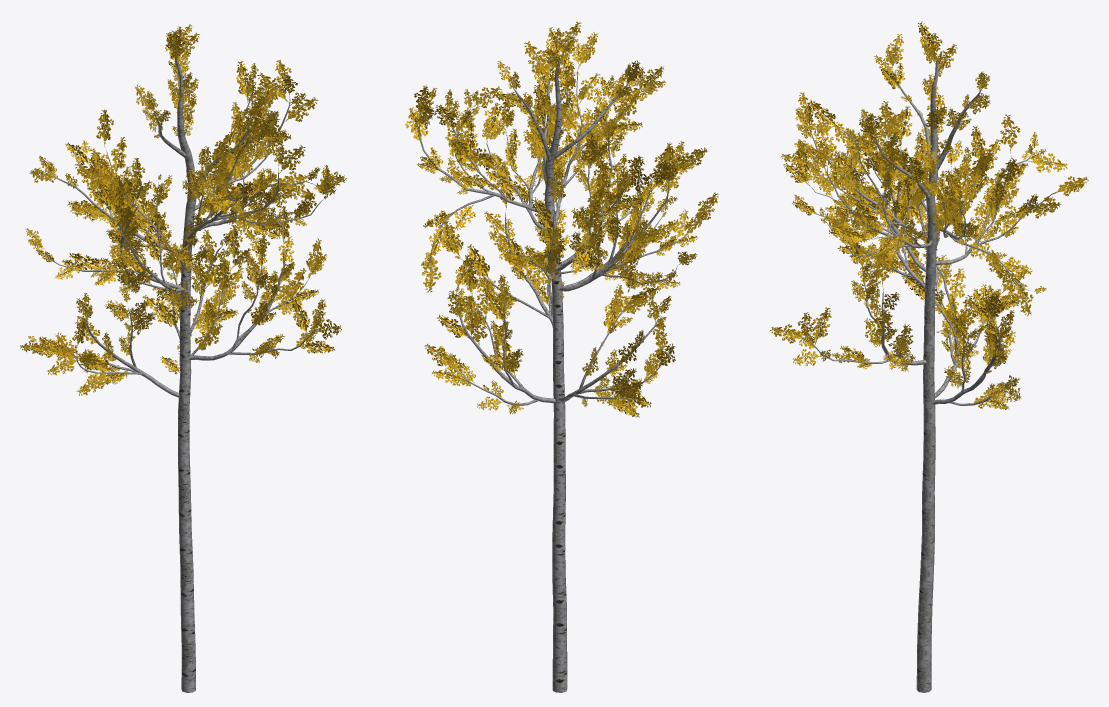
The model's file is aspen.glb.
The picture shows the model from 3 angles, left to right: view 1: azimuth 30°, elevation 25°; view 2: azimuth 150°, elevation 25°; view 3: azimuth 270°, elevation 25°; orthographic projection.
Parts seen in each view (by area): view 1: Tree; view 2: Tree; view 3: Tree.
Boxes of the visible parts, x1,y1,x2,y2 form: Tree: (20,24,347,692); Tree: (405,21,718,692); Tree: (769,21,1088,692).
Bounding box in the file's own units: 33.48 × 70.9 × 31.94.
2 materials, 2 textured.
